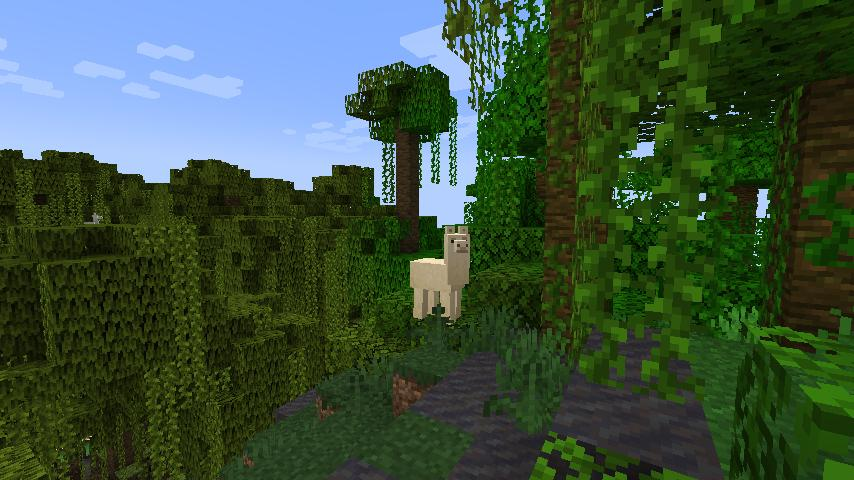llama: (408, 223, 474, 326)
